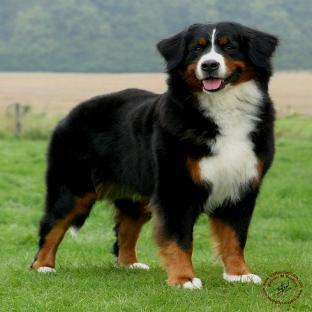Animal: (31, 22, 278, 289)
